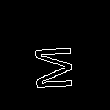M_W: (30, 47, 77, 96)
